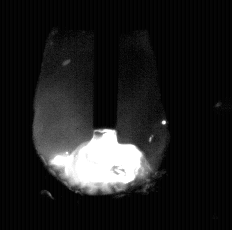arame: (94, 0, 119, 131)
poca: (32, 0, 167, 230)
